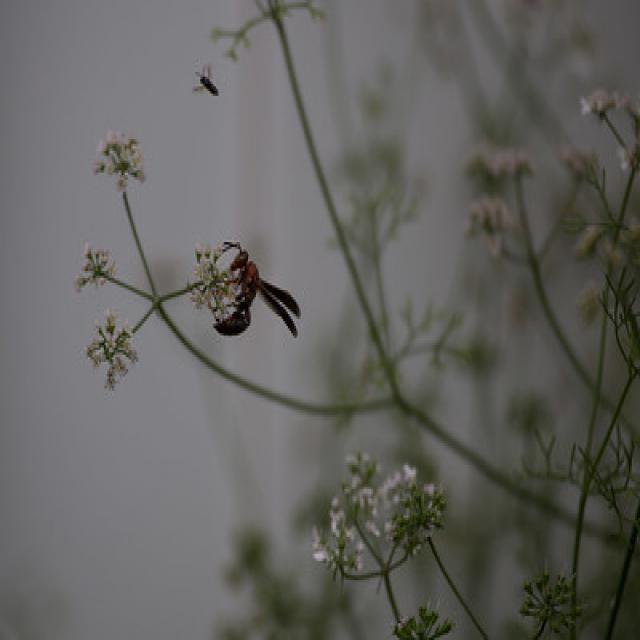Guepe: (206, 220, 309, 357)
